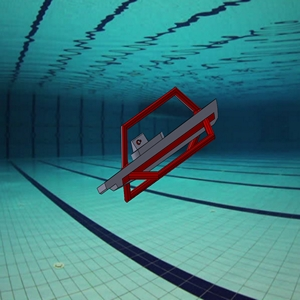submarine: (89, 79, 227, 216)
